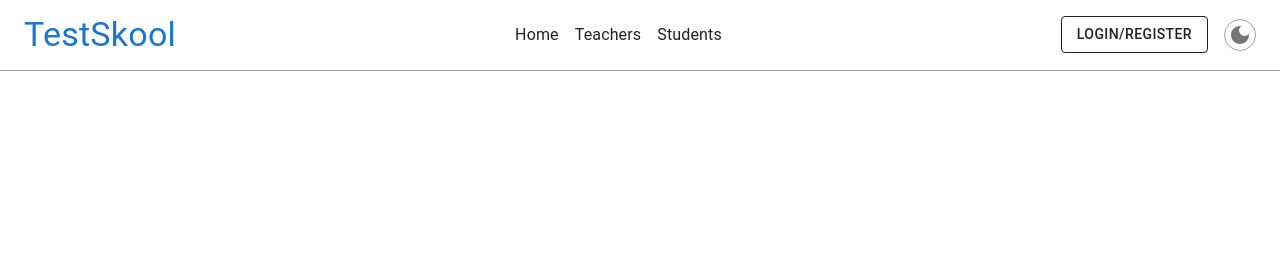
Visibility tests of Navbar before request: › Should render "Login/Register" elements when clicked.
Click the button "Login/Register".
click(1134, 35)  # box [1061, 16, 1208, 53]
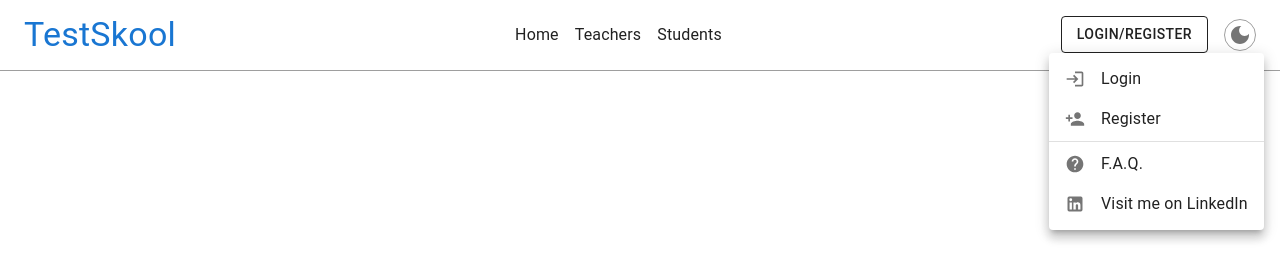
Now the link "Login" is shown, box [1065, 69, 1141, 89]
Now the link "Register" is shown, box [1065, 109, 1161, 129]
Now the link "F.A.Q." is shown, box [1065, 154, 1143, 174]
